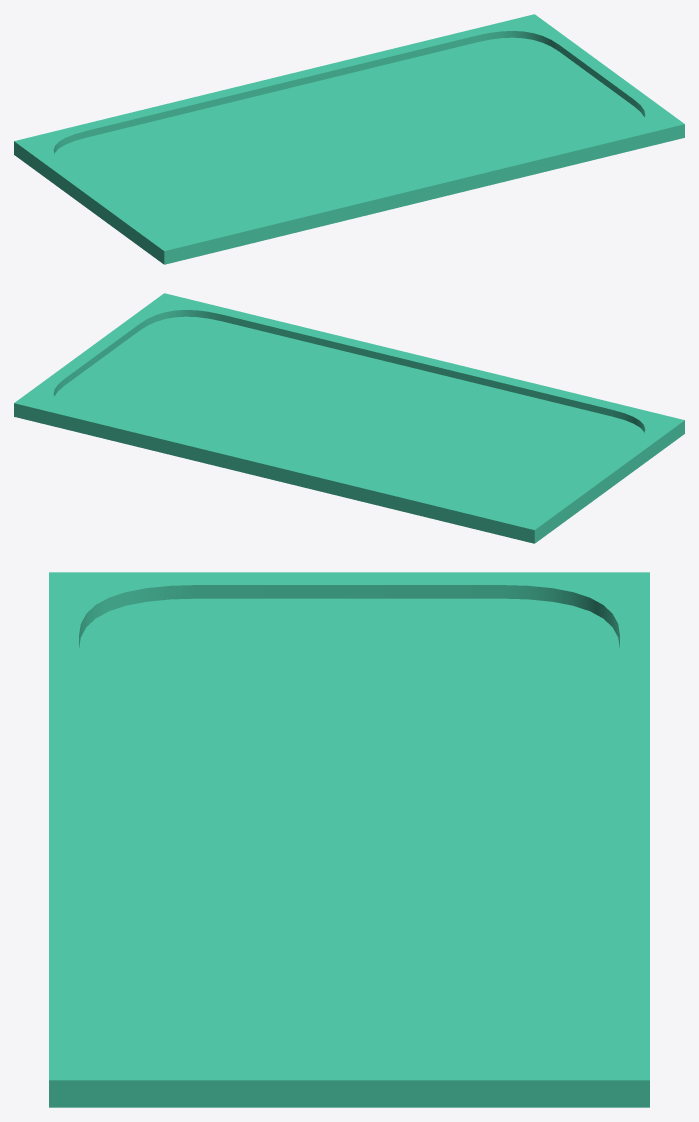
Rendered from Floor_4x2m_B.FBX.
The picture shows the model from 3 angles, top to bottom: view 1: azimuth 30°, elevation 25°; view 2: azimuth 150°, elevation 25°; view 3: azimuth 270°, elevation 25°; orthographic projection. The views are drawn at different scales.
Visible parts, largest first — view 1: Floor_4x2m_B; view 2: Floor_4x2m_B; view 3: Floor_4x2m_B.
Part boxes in pixels (box(x1,y1,x2,y2)): Floor_4x2m_B: box(14, 14, 684, 264); Floor_4x2m_B: box(14, 293, 684, 543); Floor_4x2m_B: box(49, 572, 649, 1107).
Size of the model in its own units: 400 by 10 by 200.
